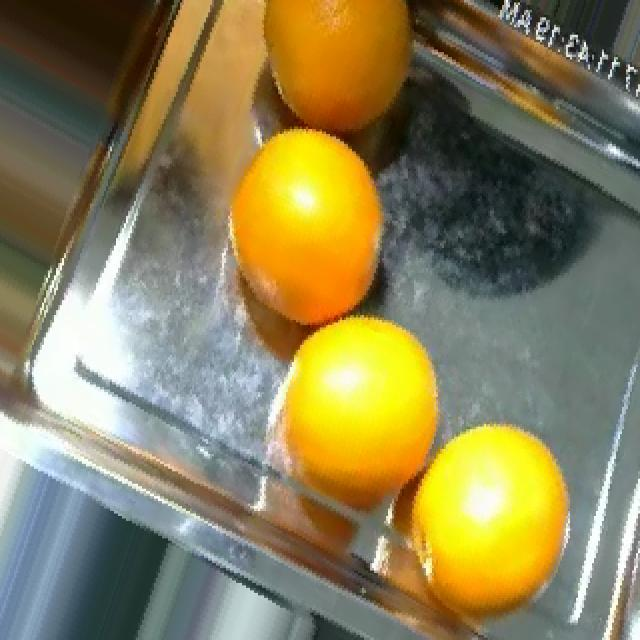Good_Orange: (228, 129, 384, 330), (412, 424, 568, 620), (282, 318, 440, 494), (262, 0, 412, 141)
